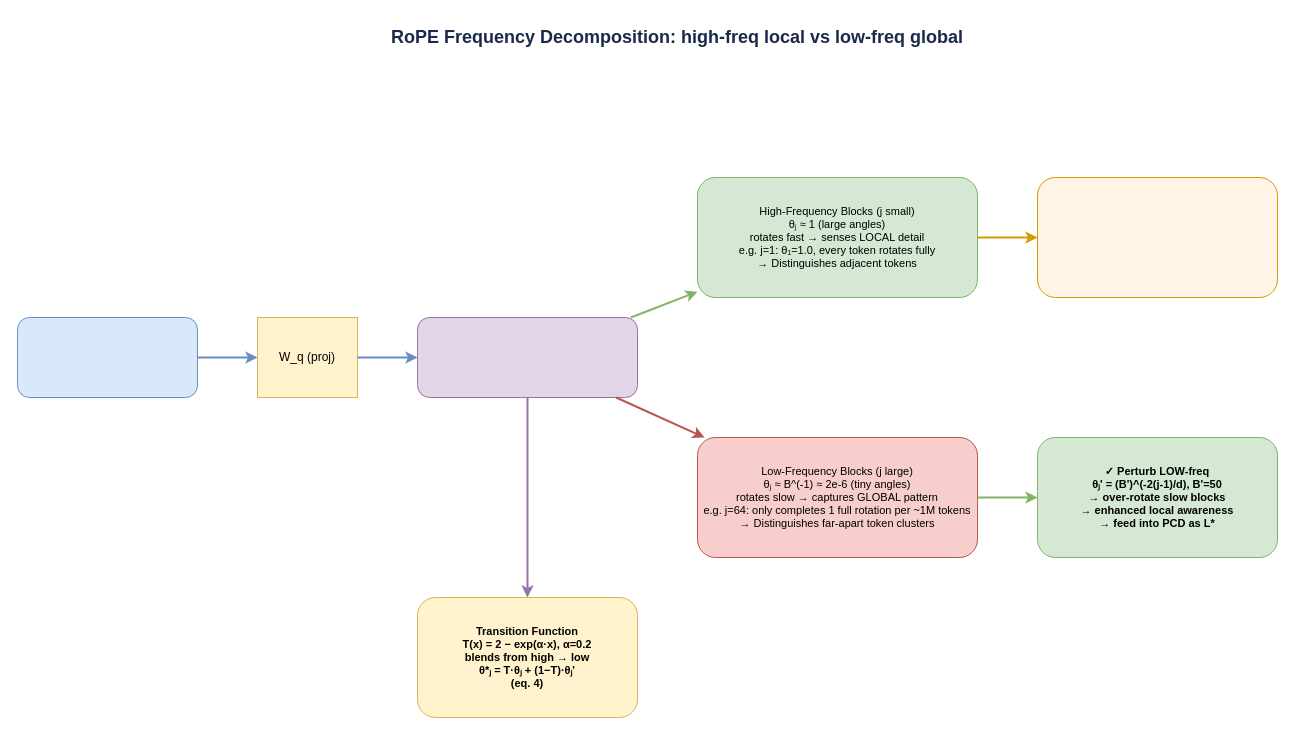
Image size: 1295x735. Some labels were removed from this diagram. The shapes that lost their labels are listed below. From the top down, each one's centre as x and y in pixels, then its label:
At point 1157,237: "❌ Perturb HIGH-freq → destroys local structure → MODEL COLLAPSE (Appendix A.6)".
At point 107,357: "Token embedding x_m ∈ ℝ^d d = 128 (Llama-3 head_dim)".
At point 527,357: "Split into d/2 = 64 frequency blocks θⱼ = B^(-2(j-1)/d) j = 1, 2, ..., 64".
